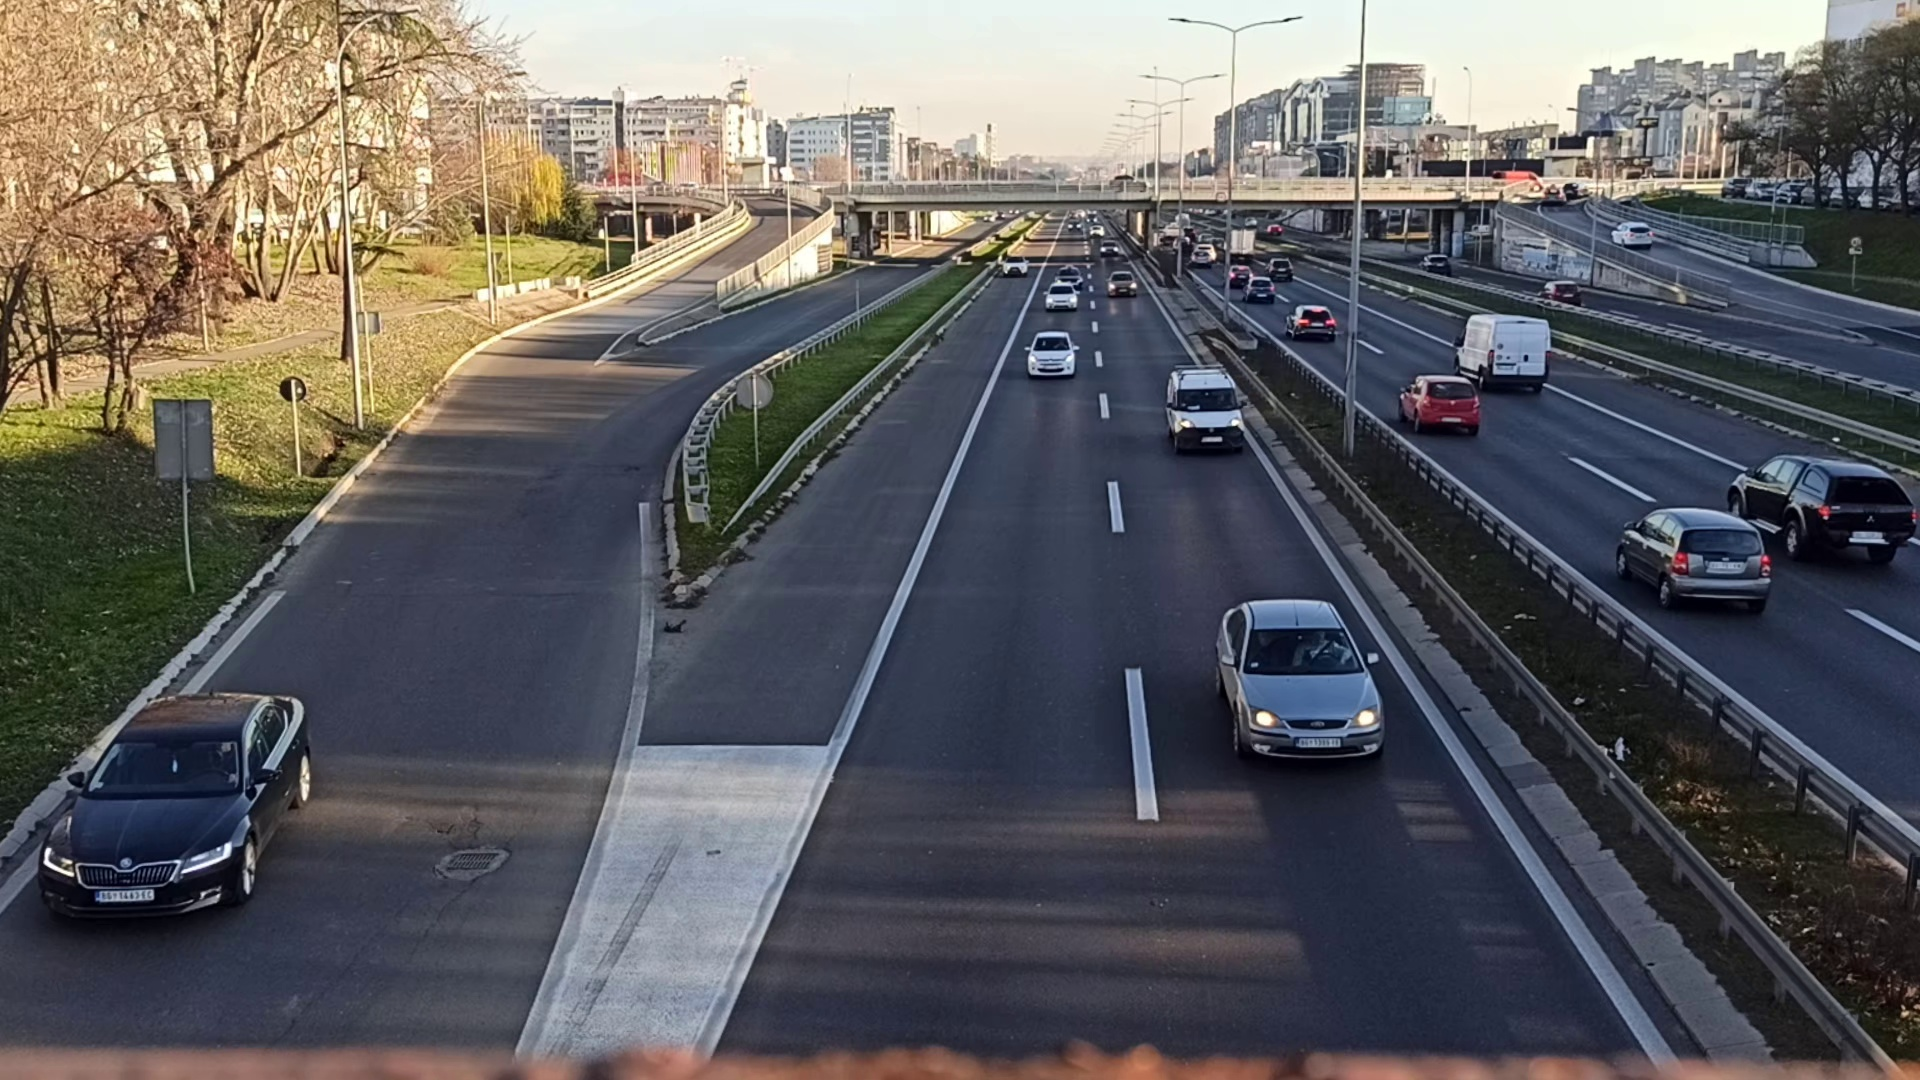car: (25, 694, 328, 919), (1207, 591, 1389, 773), (1726, 444, 1920, 564), (1610, 506, 1770, 611), (1394, 375, 1480, 435), (1026, 328, 1079, 380), (1282, 301, 1337, 344), (1044, 280, 1080, 313)
van: (1447, 309, 1555, 396), (1164, 363, 1247, 456)
